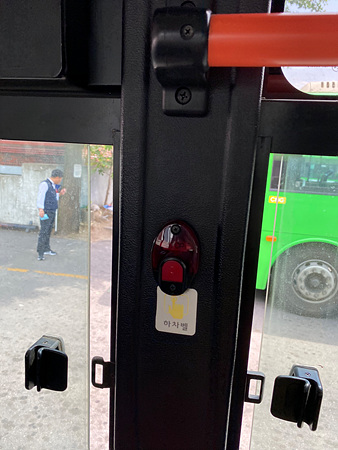bell: (150, 223, 198, 295)
